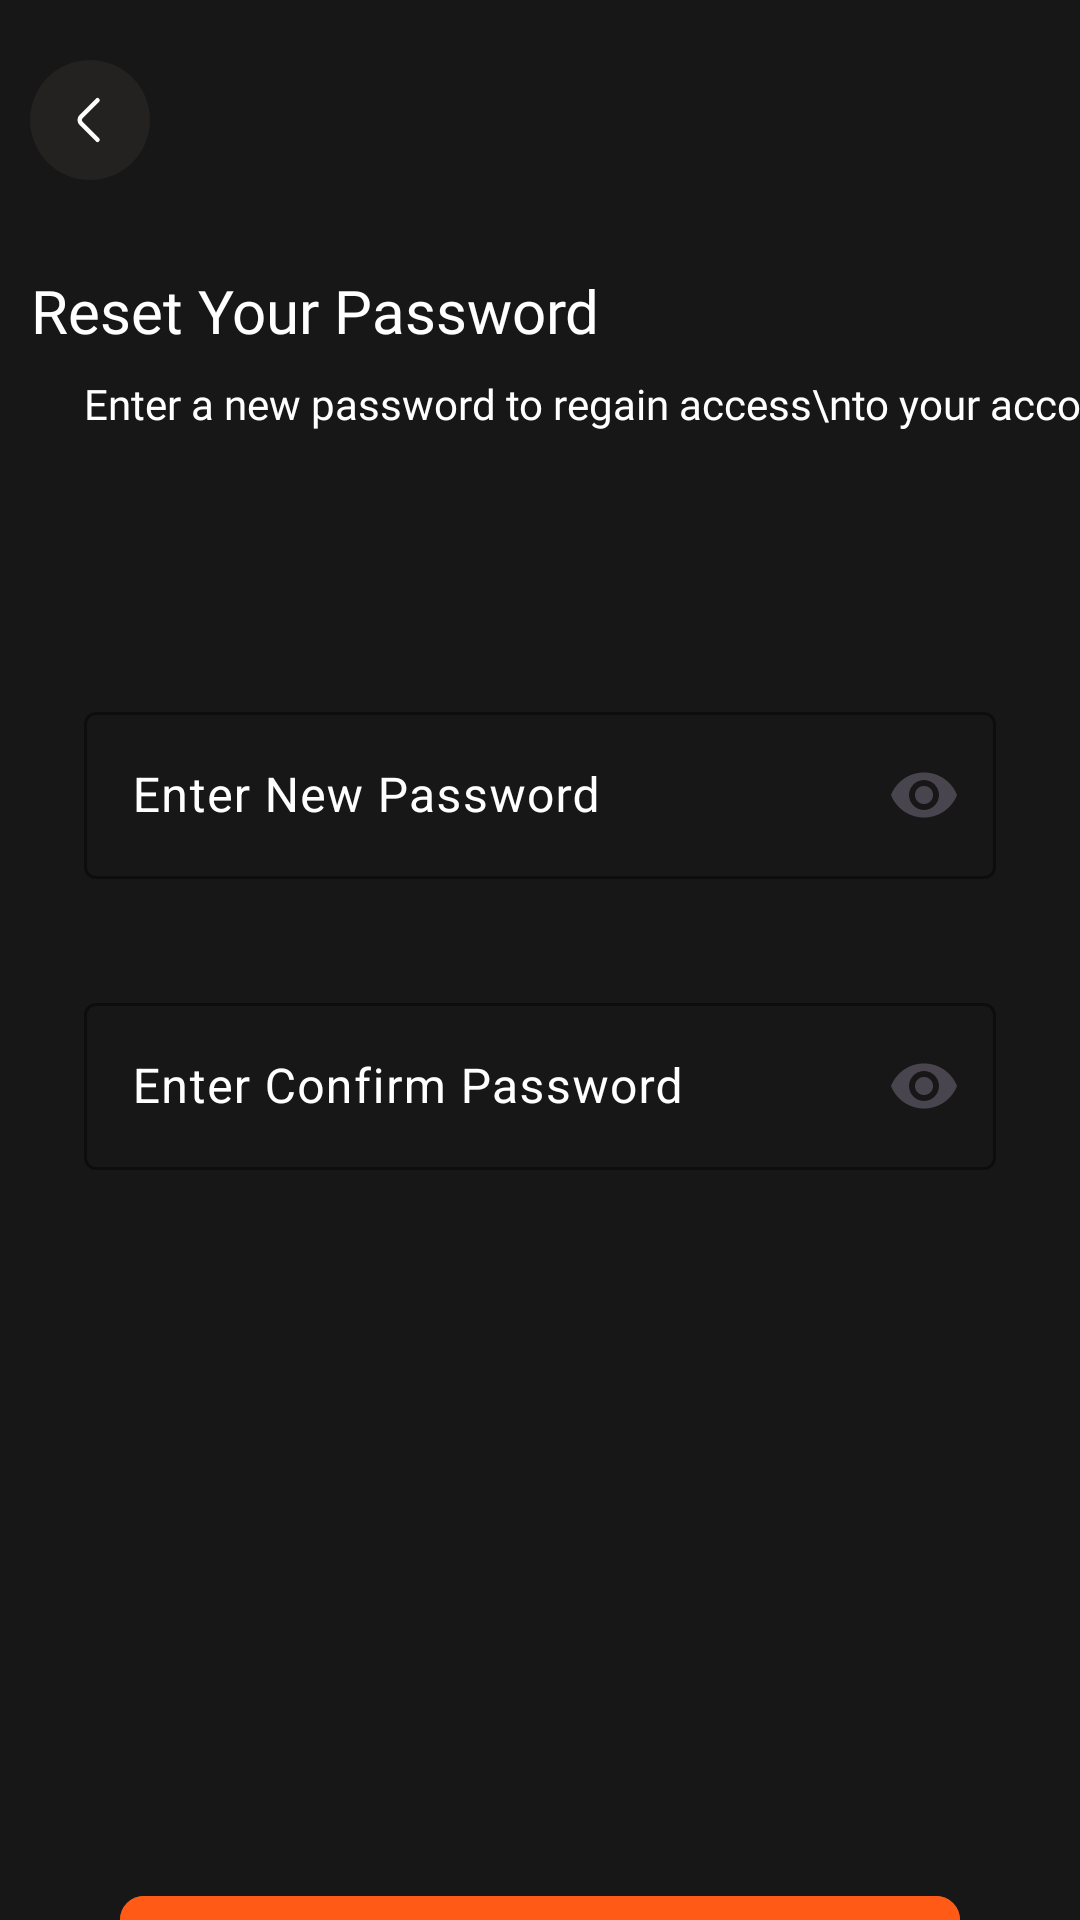

Icon bounding boxes for this 1080x1920 phone screenshot, format Rect(x1, y1, x2, y2):
back: Rect(30, 60, 150, 180)
